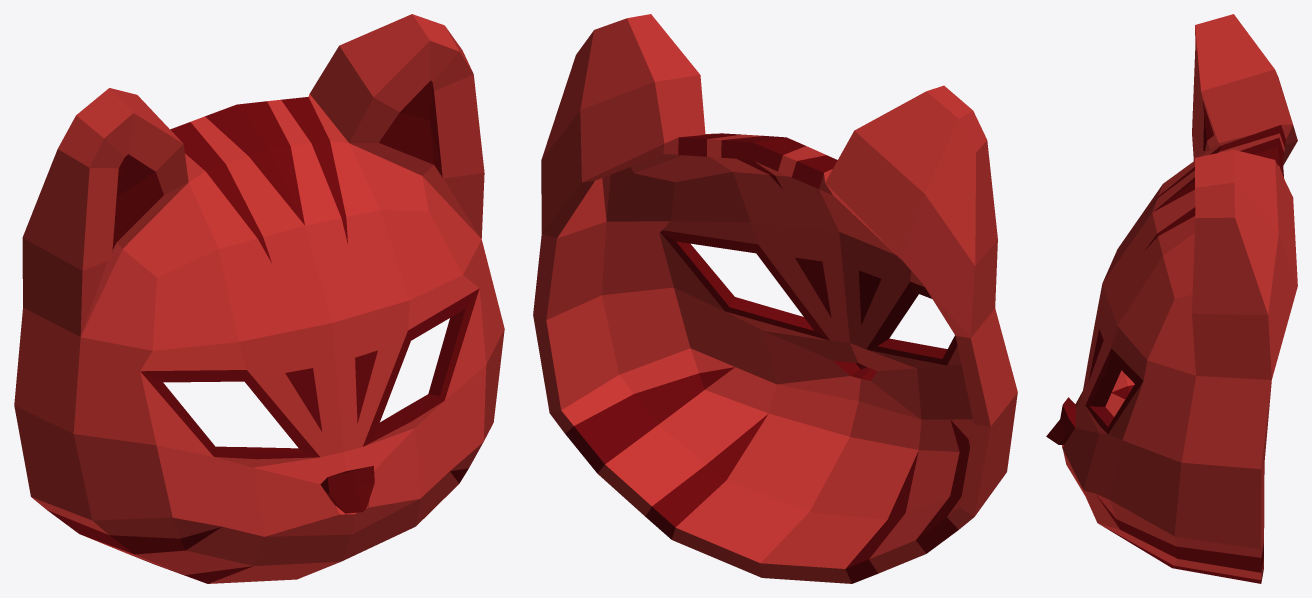
The model's file is gato.fbx.
3 renders of one model, left to right at view 1: azimuth 30°, elevation 25°; view 2: azimuth 150°, elevation 25°; view 3: azimuth 270°, elevation 25°, orthographic. The views are drawn at different scales.
Visible parts, largest first — view 1: Cube, Cube.001; view 2: Cube; view 3: Cube, Cube.001.
Boxes of the visible parts, box(x1,y1,x2,y2) form: Cube: box(14, 14, 504, 583); Cube.001: box(326, 483, 374, 513); Cube: box(533, 14, 1017, 583); Cube: box(1060, 14, 1297, 583); Cube.001: box(1046, 419, 1071, 444).
Size of the model in its own units: 180 by 192 by 92.12.
